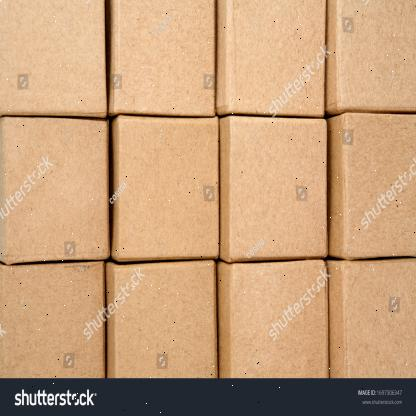box: (0, 119, 110, 261), (113, 117, 221, 260), (228, 115, 330, 264), (220, 261, 329, 378), (108, 262, 216, 379), (331, 113, 416, 258), (0, 0, 105, 114), (221, 0, 325, 115), (111, 0, 215, 114), (0, 264, 104, 377), (328, 258, 416, 379), (335, 0, 416, 111)
